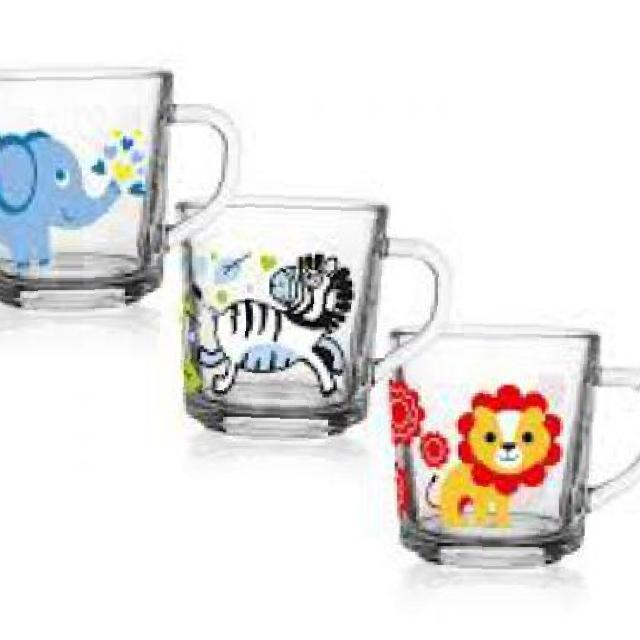cup: (166, 183, 454, 453), (381, 320, 640, 579), (0, 58, 246, 321)
